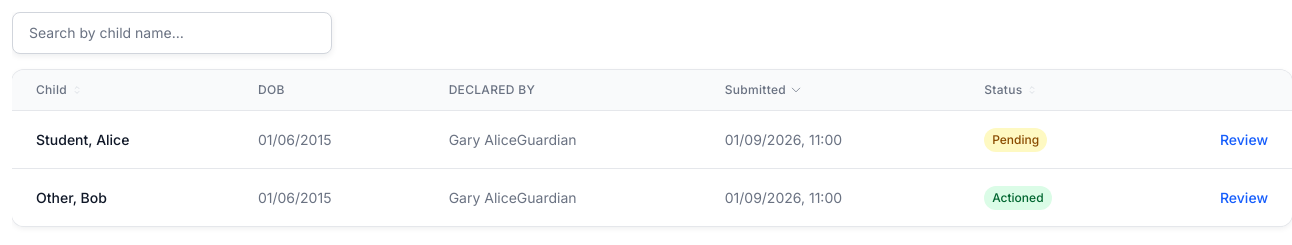
Test: PhotoOptOutsTable › filters by child name
Type "alice" into the search field labelled "Search by child name" at (172, 33), box [12, 12, 332, 54]
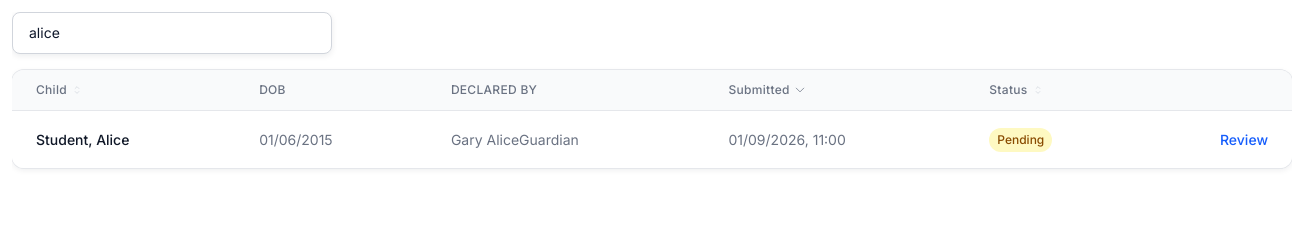
Expected: the text "Student, Alice" is shown, [12, 110, 235, 168]
Expected: the text "Other, Bob" is gone
